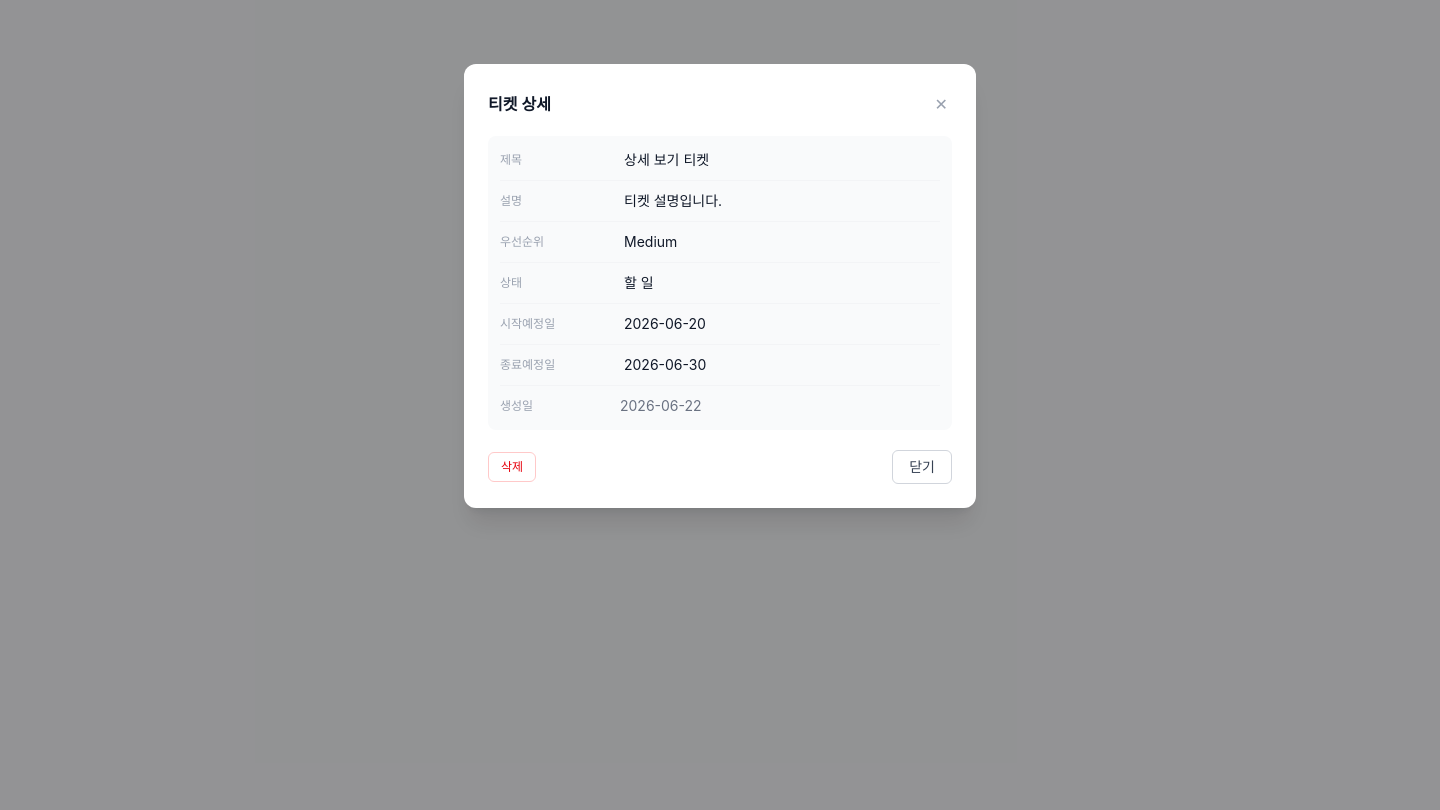
Test case: DetailModal — 인라인 편집 › title 클릭 → input으로 전환
What coordinates should you click on to do the following:
click the text "상세 보기 티켓"
I would click on:
 (667, 160)
Its box is left=620, top=149, right=713, bottom=170.
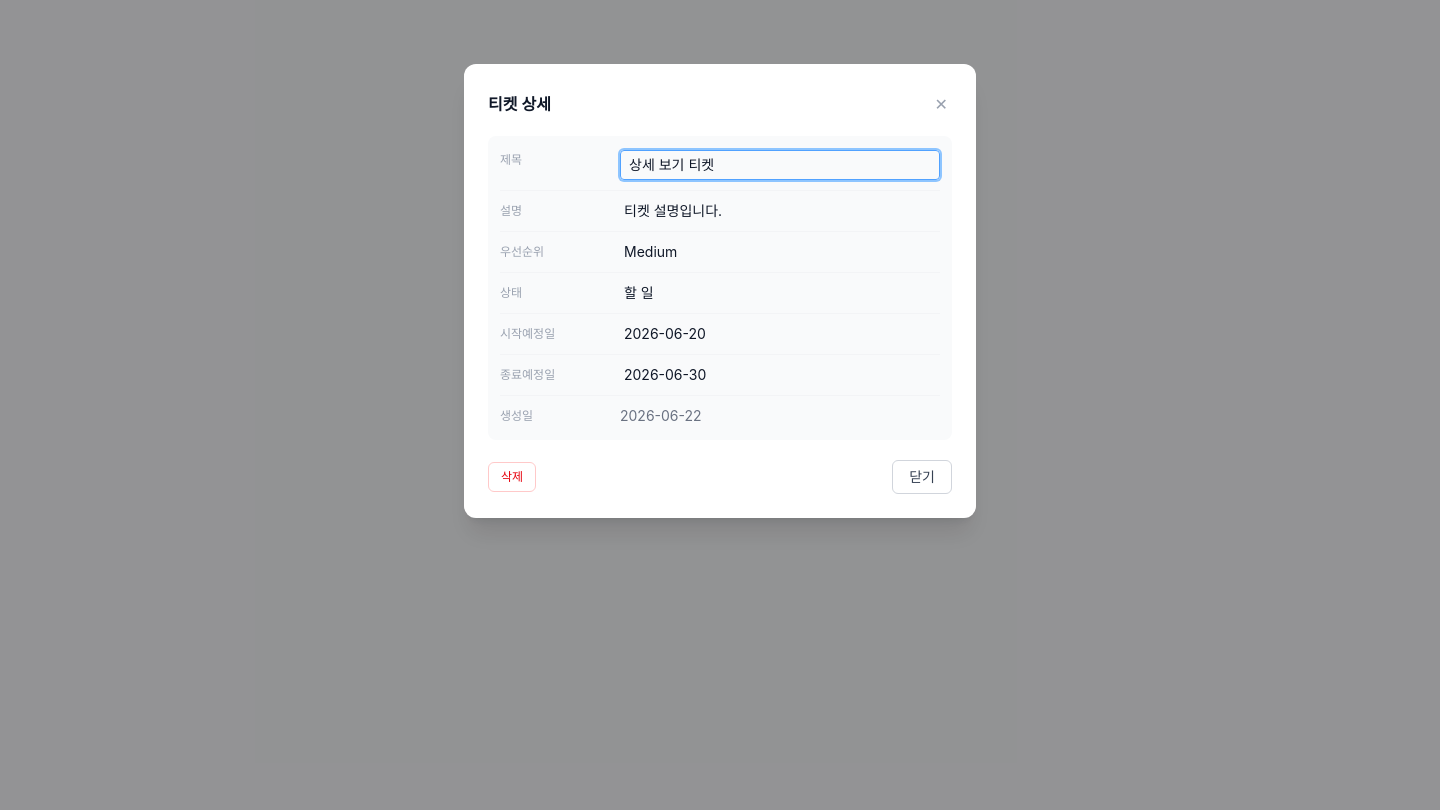
Expected: the field showing "상세 보기 티켓" is shown, left=620, top=150, right=940, bottom=180
